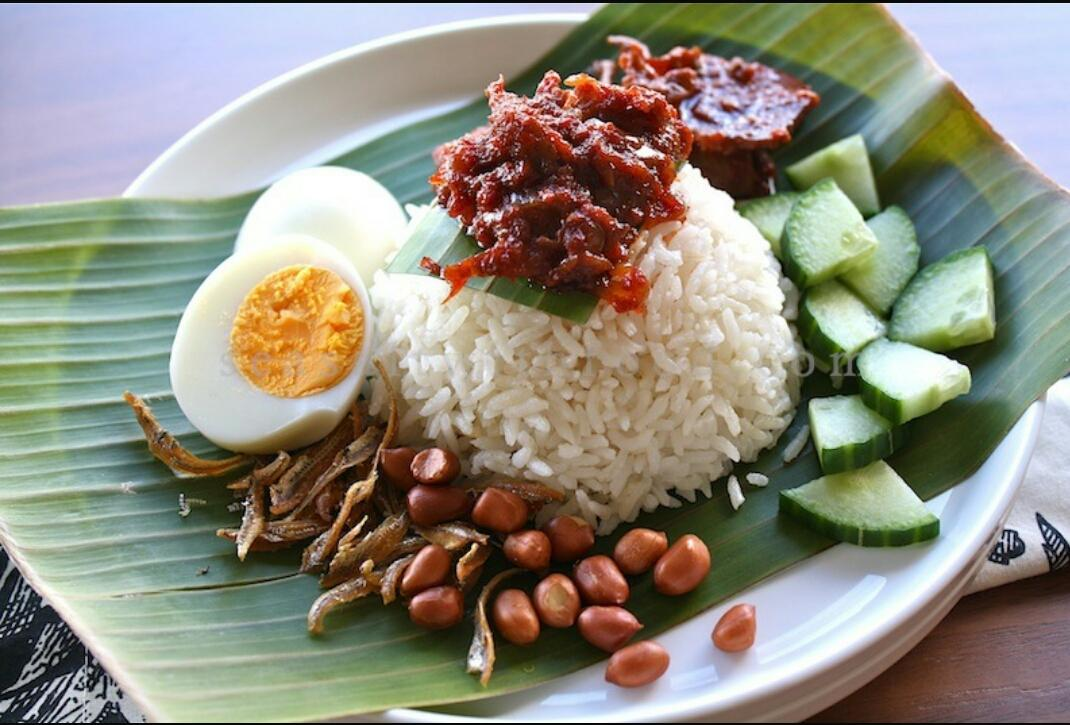Anchovies: (123, 376, 438, 635)
Boiled-Egg: (170, 166, 403, 449)
Cucumber: (734, 135, 995, 545)
Peanuts: (381, 449, 709, 683)
Rice: (368, 171, 801, 537)
Sambal: (431, 44, 818, 290)
